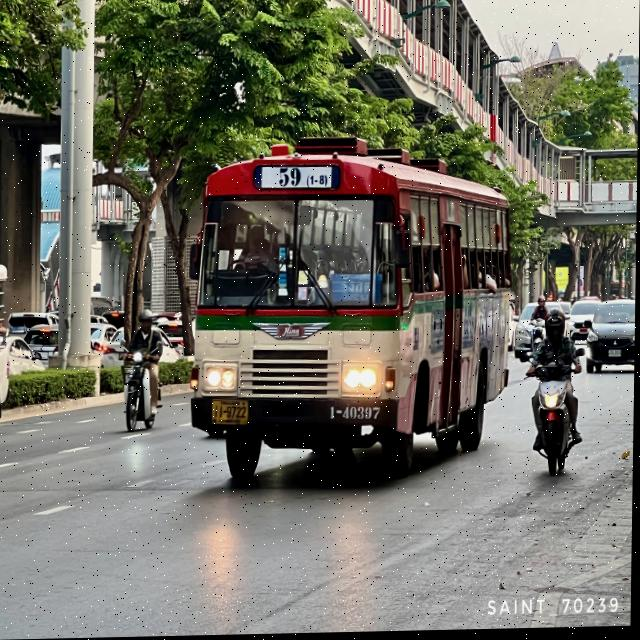BMTA-bus: (182, 119, 519, 497)
Bus Line Number: (254, 164, 345, 195)
Bus Side Number: (322, 404, 389, 425)
Destination Sign: (331, 276, 382, 307)
